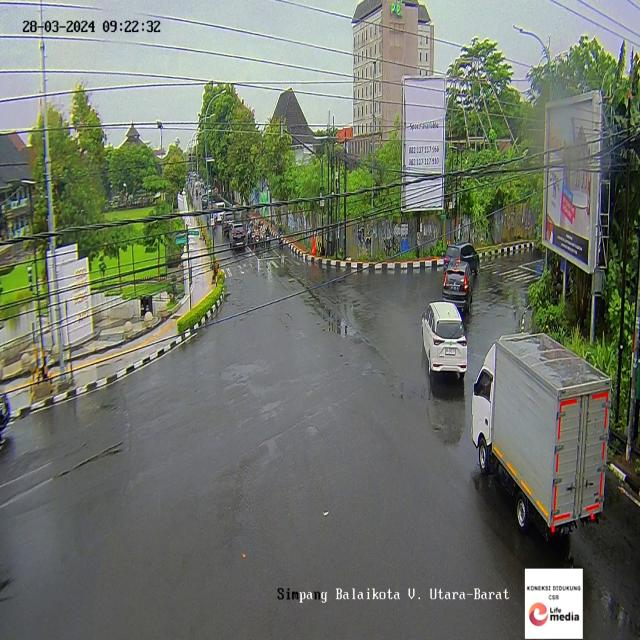car: (418, 300, 468, 391), (443, 256, 476, 317), (444, 236, 481, 276), (228, 220, 247, 248), (220, 209, 237, 234), (214, 198, 225, 224)
motorcycle: (278, 222, 284, 249), (266, 226, 272, 253)
truck: (468, 330, 626, 542)
